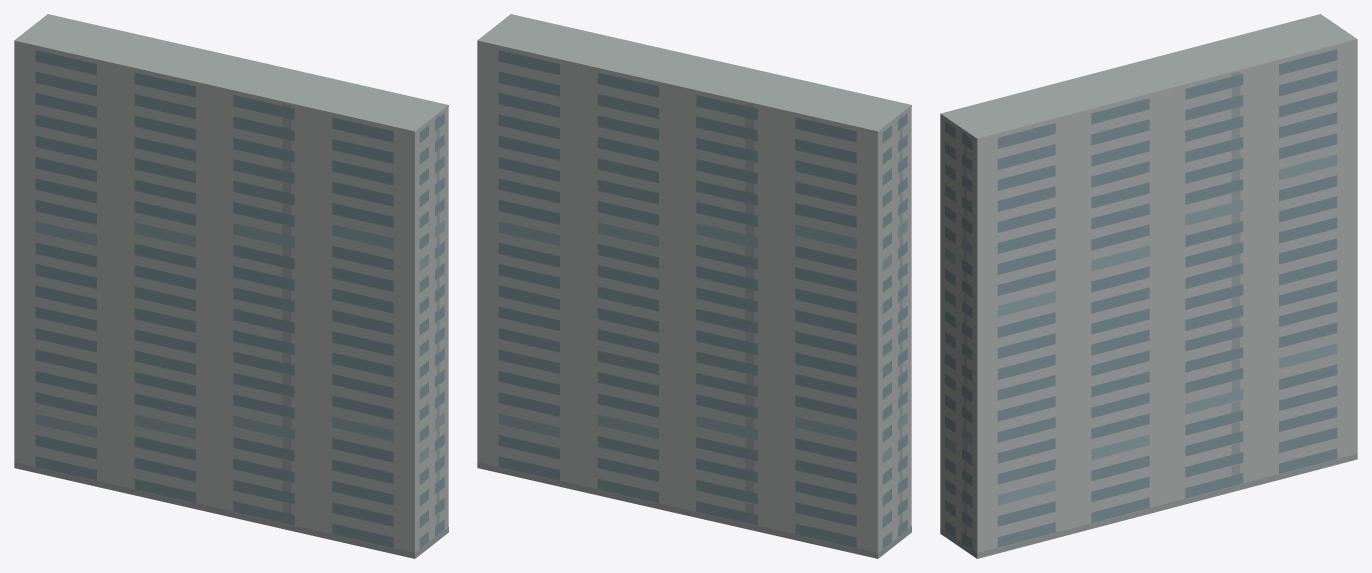
File: residential-f9cb3d9f-948f-42b6-a852-f2c2d270114e.glb
3 renders of one model, left to right at view 1: azimuth 30°, elevation 25°; view 2: azimuth 210°, elevation 25°; view 3: azimuth 270°, elevation 25°, orthographic.
Parts seen in each view (by area): view 1: residential-f9cb3d9f-948f-42b6-a852-f2c2d270114e.tmp; view 2: residential-f9cb3d9f-948f-42b6-a852-f2c2d270114e.tmp; view 3: residential-f9cb3d9f-948f-42b6-a852-f2c2d270114e.tmp.
Boxes of the visible parts, bbox=[...] form: residential-f9cb3d9f-948f-42b6-a852-f2c2d270114e.tmp: bbox=[14, 14, 448, 558]; residential-f9cb3d9f-948f-42b6-a852-f2c2d270114e.tmp: bbox=[477, 14, 911, 558]; residential-f9cb3d9f-948f-42b6-a852-f2c2d270114e.tmp: bbox=[940, 14, 1357, 558].
Size of the model in its own units: 35 by 55 by 49.48.
